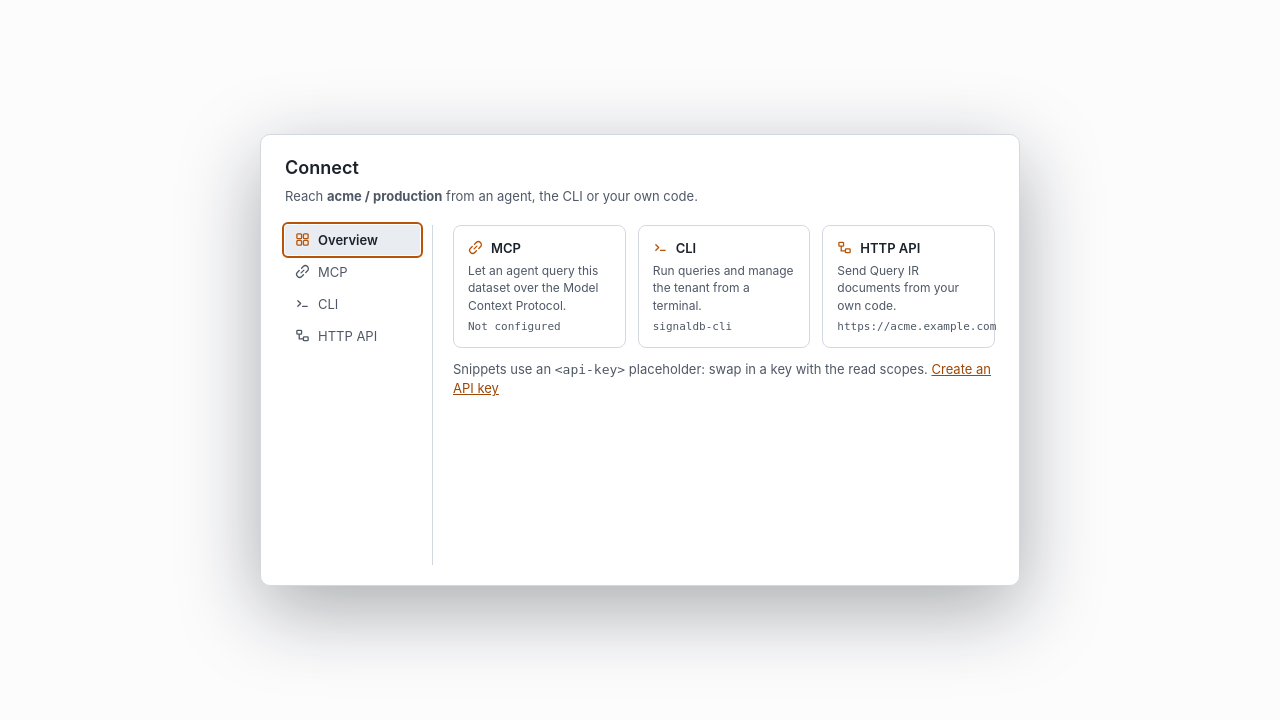
Scenario: ConnectPanel › says when the deployment has no MCP endpoint
Expected: the text "Not configured" is shown, [468, 320, 561, 333]
Click the tab "MCP": (352, 272) [285, 257, 420, 287]
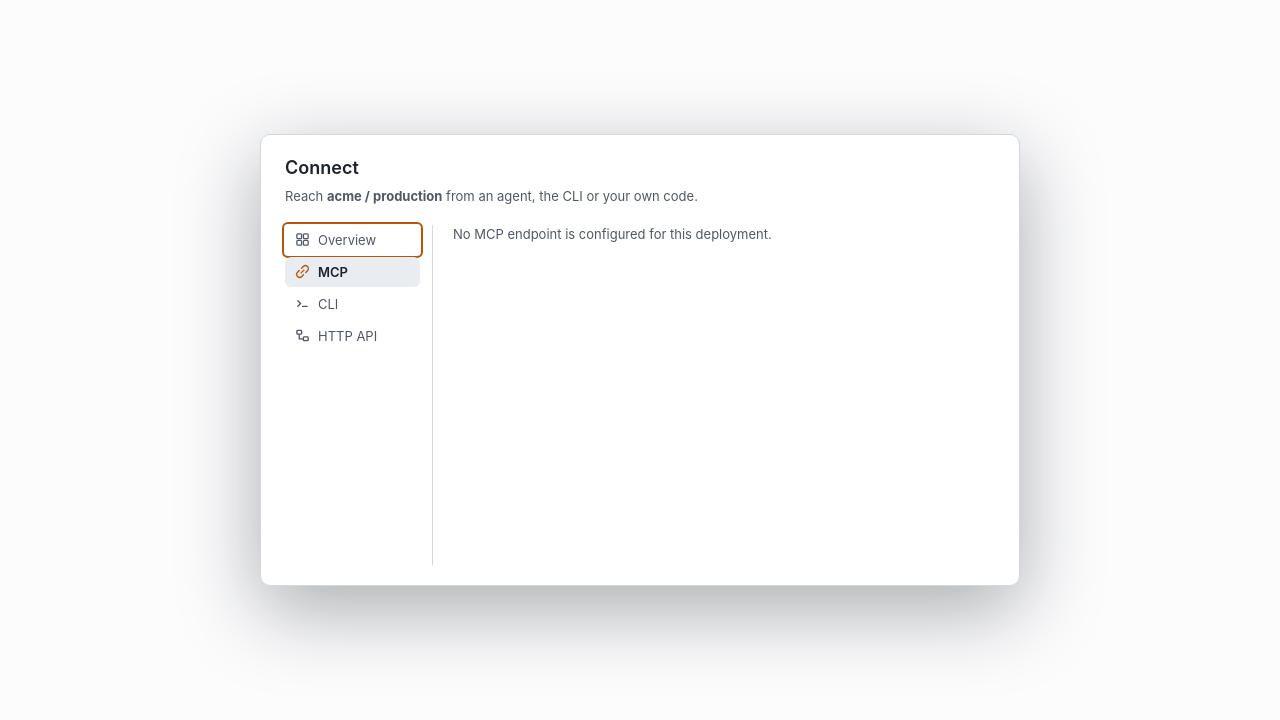
Expected: the panel "MCP" does not show "claude mcp add", [453, 226, 772, 242]
Now the panel "MCP" shows "No MCP endpoint is configured", box [453, 226, 772, 242]
